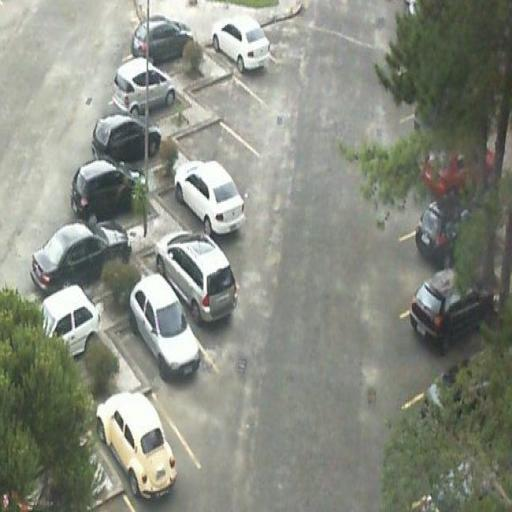car: (95, 392, 179, 504), (128, 272, 204, 387), (154, 229, 238, 331), (409, 265, 502, 356), (31, 220, 133, 293), (422, 362, 508, 436), (173, 157, 247, 240), (416, 194, 493, 269), (32, 286, 104, 363), (421, 133, 501, 199), (72, 160, 148, 227), (112, 58, 177, 120), (210, 14, 272, 76), (92, 114, 162, 168), (212, 14, 272, 74), (133, 14, 195, 65)
